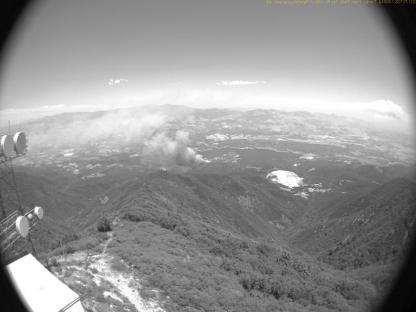smoke: (56, 96, 212, 164)
